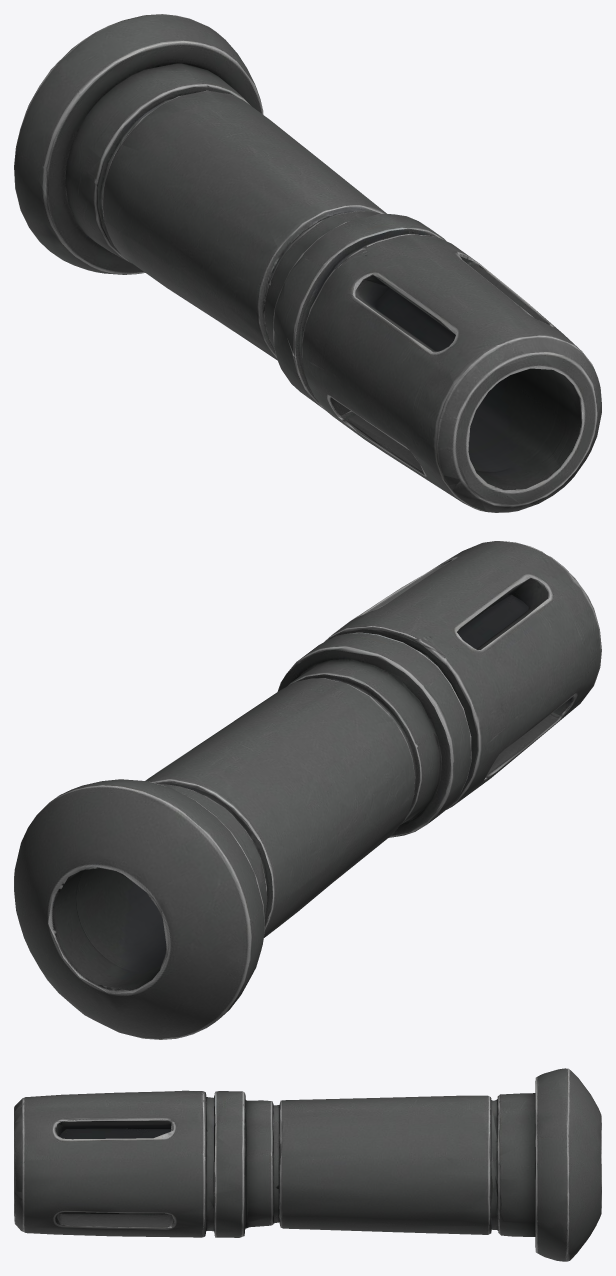
File: imperial_point_defence_turret__barrel.glb
3 views of the same model, one above another, from view 1: azimuth 30°, elevation 25°; view 2: azimuth 150°, elevation 25°; view 3: azimuth 270°, elevation 25° (orthographic). The views are drawn at different scales.
Visible parts, largest first — view 1: mesh_node; view 2: mesh_node; view 3: mesh_node.
Boxes of the visible parts, bbox=[...] form: mesh_node: bbox=[14, 14, 601, 512]; mesh_node: bbox=[14, 541, 601, 1039]; mesh_node: bbox=[14, 1068, 601, 1261].
Size of the model in its own units: 0.8209 by 0.8212 by 2.5.
Materials: 1 (1 with a texture image).
